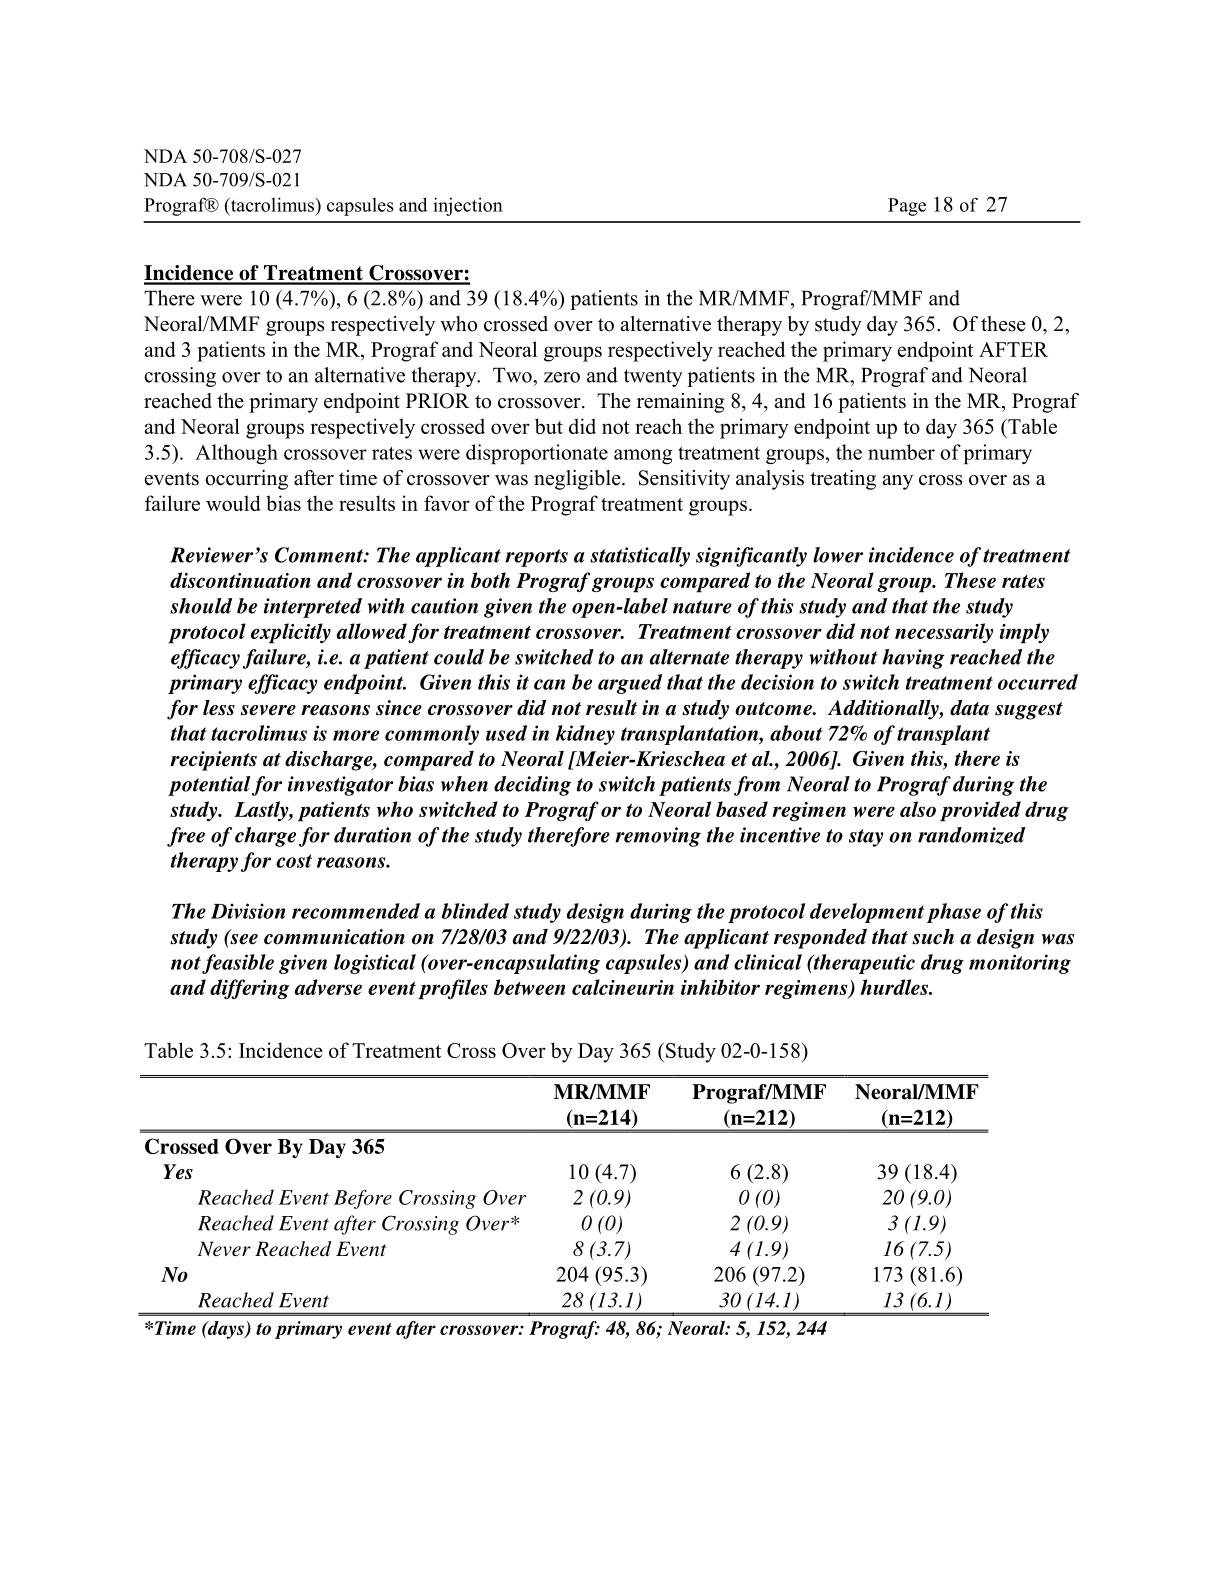partial_lined: (138, 1074, 990, 1318)
